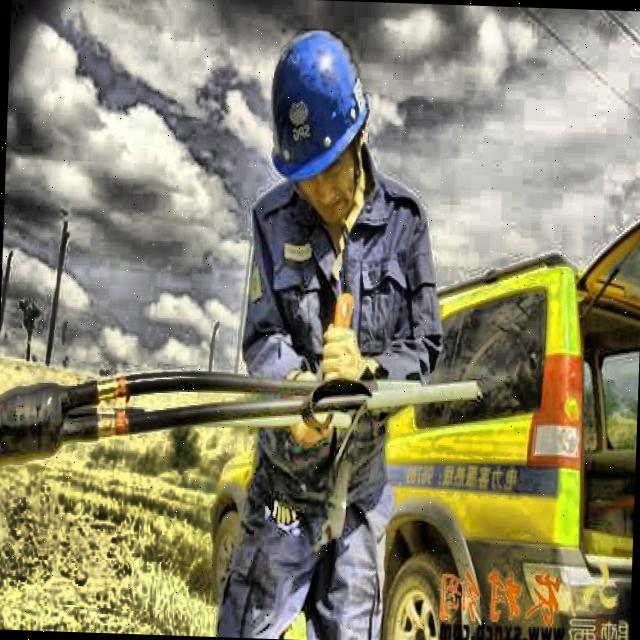helmet: (246, 3, 381, 240)
